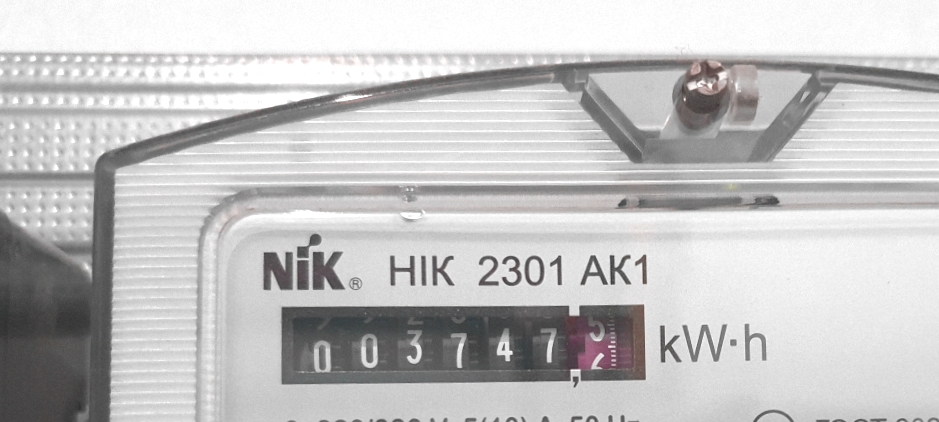0: (357, 330, 379, 369), (310, 337, 333, 373)
3: (403, 327, 423, 365)
4: (493, 324, 514, 364)
5: (586, 313, 606, 342)
6: (587, 349, 606, 370)
7: (536, 324, 559, 364), (448, 329, 468, 369)
screen: (270, 288, 660, 402)
